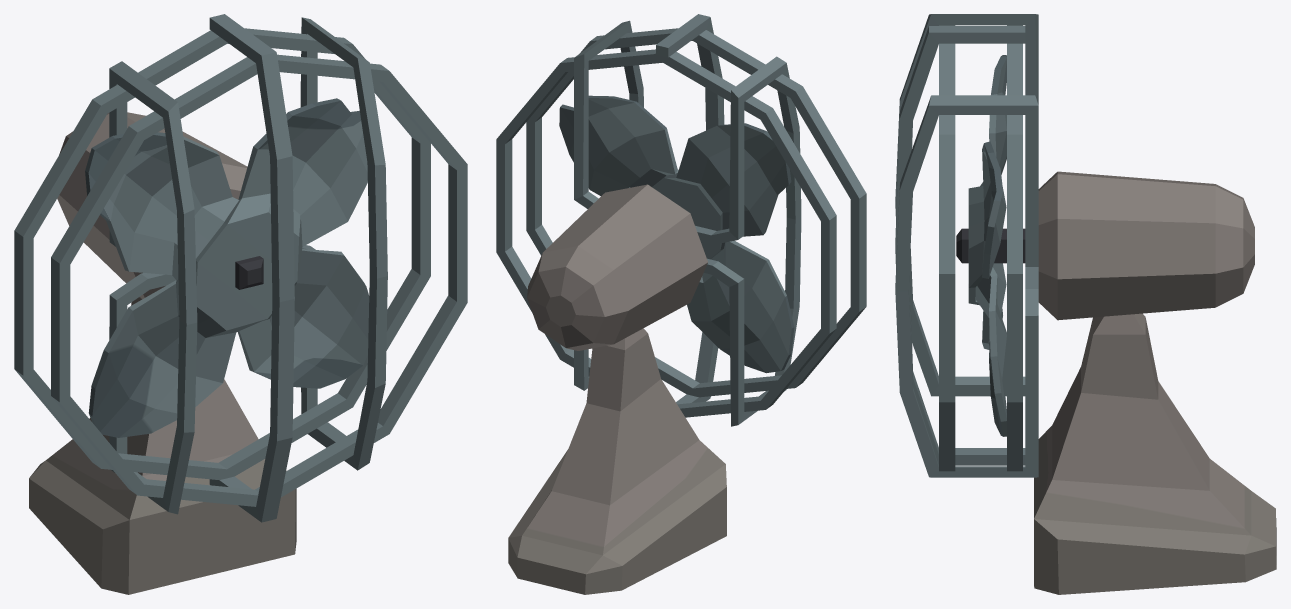
The model's file is SM_Table_Fan.gltf.
3 views of the same model, side by side, from view 1: azimuth 30°, elevation 25°; view 2: azimuth 150°, elevation 25°; view 3: azimuth 270°, elevation 25° (orthographic). The views are drawn at different scales.
Parts seen in each view (by area): view 1: SM_Table_Fan_Head, SM_Table_Fan_Blade, SM_Table_Fan; view 2: SM_Table_Fan_Head, SM_Table_Fan, SM_Table_Fan_Blade; view 3: SM_Table_Fan_Head, SM_Table_Fan, SM_Table_Fan_Blade.
Boxes of the visible parts, bbox=[...] form: SM_Table_Fan_Head: bbox=[14, 14, 467, 522]; SM_Table_Fan_Blade: bbox=[85, 98, 369, 437]; SM_Table_Fan: bbox=[29, 297, 296, 594]; SM_Table_Fan_Head: bbox=[496, 14, 866, 426]; SM_Table_Fan: bbox=[508, 328, 726, 594]; SM_Table_Fan_Blade: bbox=[559, 95, 794, 373]; SM_Table_Fan_Head: bbox=[895, 14, 1254, 477]; SM_Table_Fan: bbox=[1034, 313, 1276, 594]; SM_Table_Fan_Blade: bbox=[968, 55, 1006, 436].
Bounding box in the file's own units: 0.4668 × 0.615 × 0.4075.
Materials: 1 (1 with a texture image).
